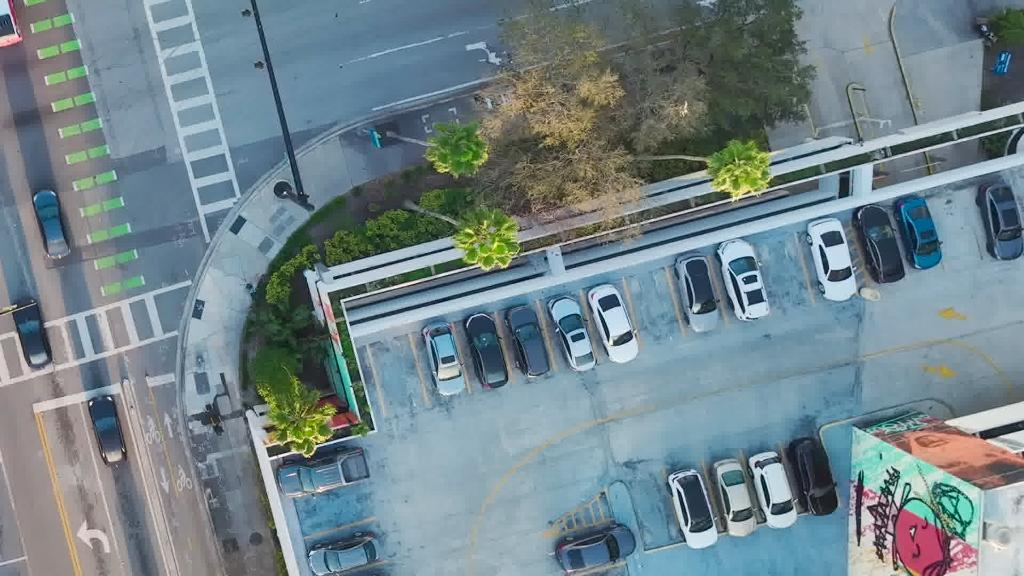cars: (276, 446, 374, 498), (716, 236, 770, 322), (852, 204, 906, 284), (806, 216, 856, 302), (588, 282, 640, 364), (666, 468, 718, 548), (788, 437, 838, 517), (974, 181, 1024, 261), (557, 524, 637, 572), (750, 450, 798, 530), (710, 457, 758, 536), (548, 294, 596, 372), (308, 528, 384, 576), (894, 194, 942, 268), (674, 252, 718, 332), (420, 320, 466, 396), (464, 311, 508, 389), (504, 305, 550, 379), (11, 296, 53, 370), (32, 186, 72, 260), (88, 393, 128, 465), (0, 0, 22, 48)
